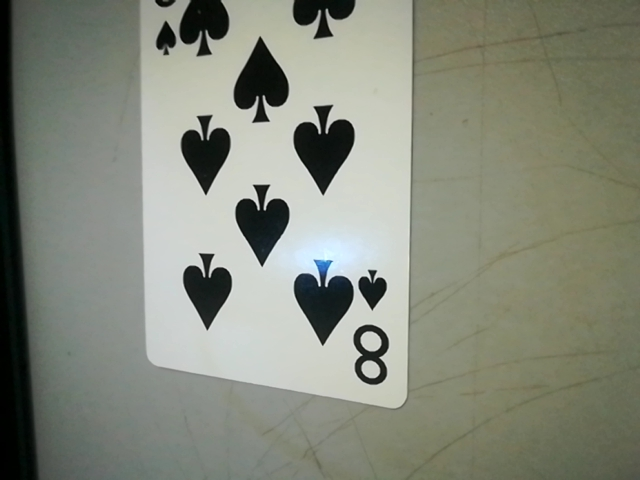ht 8: (346, 261, 405, 399)
